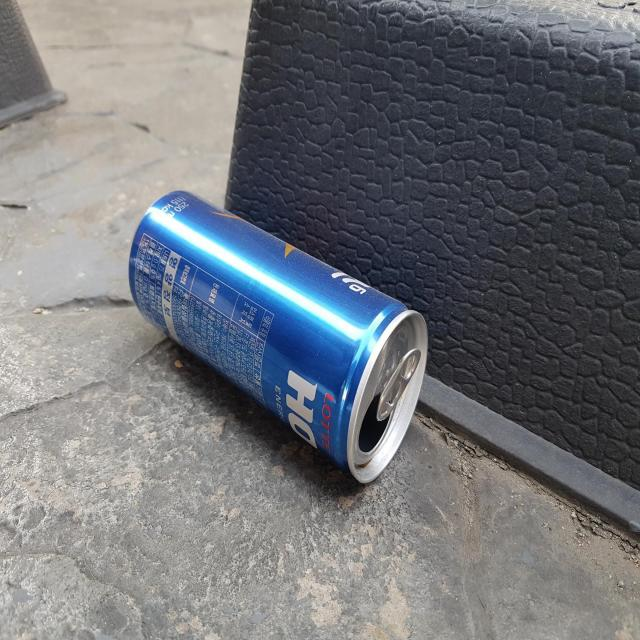can: (128, 190, 428, 484)
